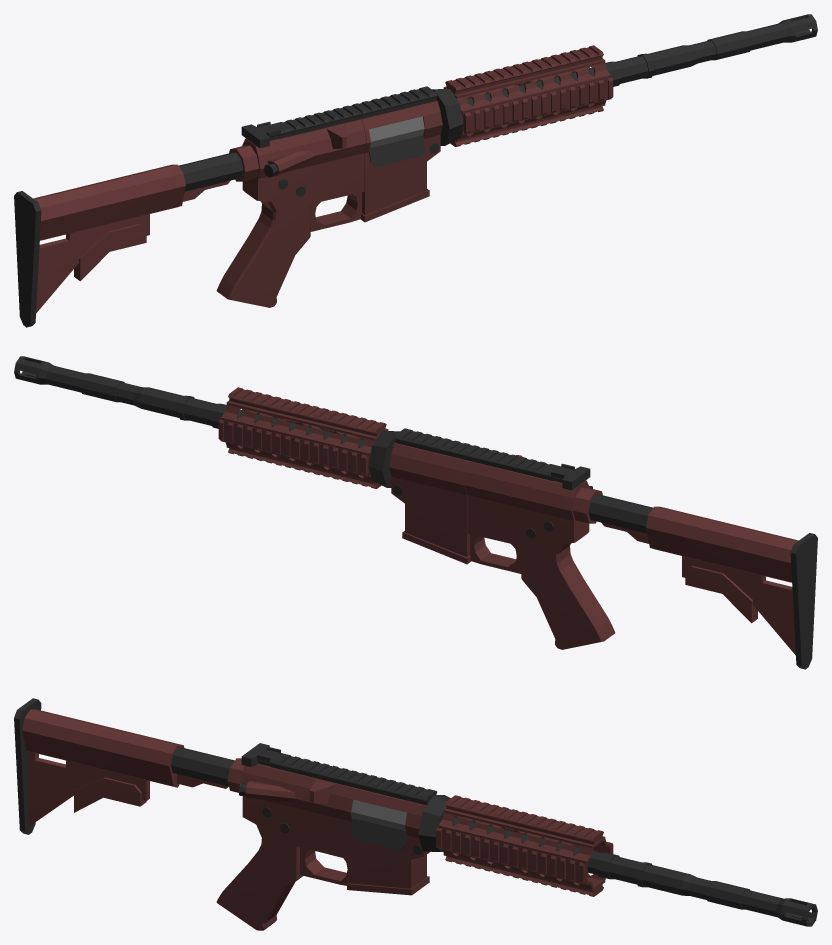
Rendered from AssaultRifle4_06.fbx.
3 renders of one model, top to bottom at view 1: azimuth 30°, elevation 25°; view 2: azimuth 150°, elevation 25°; view 3: azimuth 330°, elevation 25°, orthographic.
Visible parts, largest first — view 1: AssaultRifle4_06; view 2: AssaultRifle4_06; view 3: AssaultRifle4_06.
Part boxes in pixels (x1,y1,x2,y2): AssaultRifle4_06: (14, 14, 817, 327); AssaultRifle4_06: (14, 356, 817, 669); AssaultRifle4_06: (14, 698, 817, 930).
Bounding box in the file's own units: 0.9841 × 0.2093 × 0.0717.
